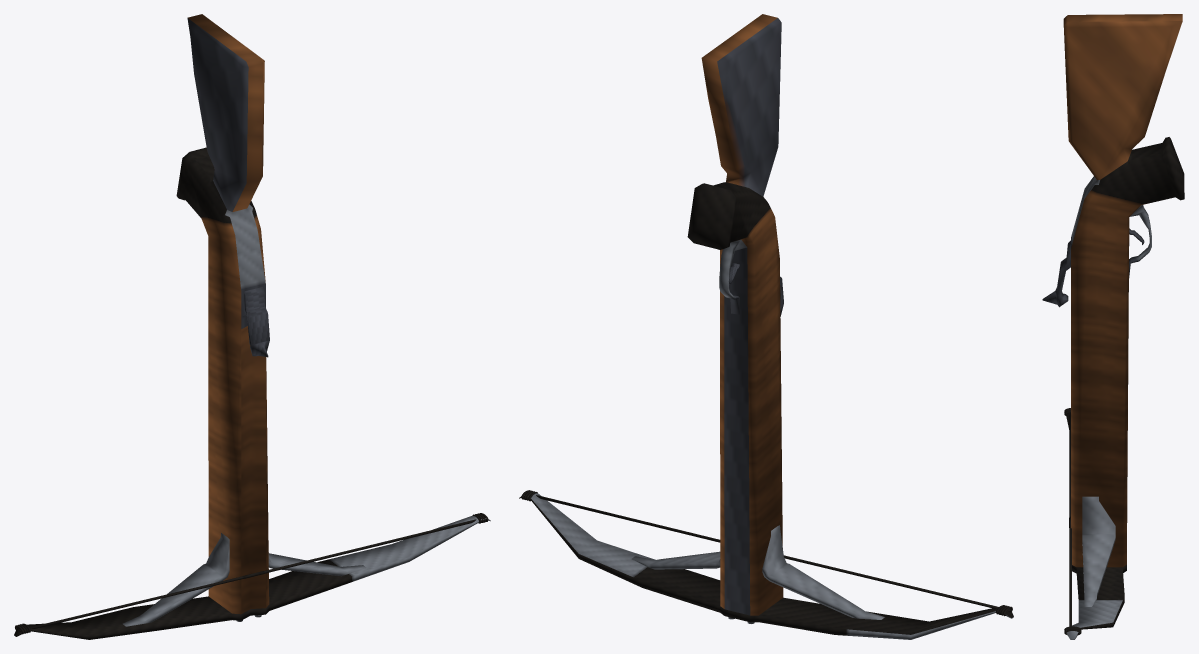
File: CrossBow.fbx
The picture shows the model from 3 angles, left to right: view 1: azimuth 30°, elevation 25°; view 2: azimuth 150°, elevation 25°; view 3: azimuth 270°, elevation 25°; orthographic projection. The views are drawn at different scales.
Visible parts, largest first — view 1: Plane.006; view 2: Plane.006; view 3: Plane.006.
Boxes of the visible parts, x1=… form: Plane.006: x1=14, y1=14, x2=490, y2=639; Plane.006: x1=519, y1=14, x2=1013, y2=639; Plane.006: x1=1042, y1=14, x2=1184, y2=639.
Bounding box in the file's own units: 1919 × 2180 × 510.
